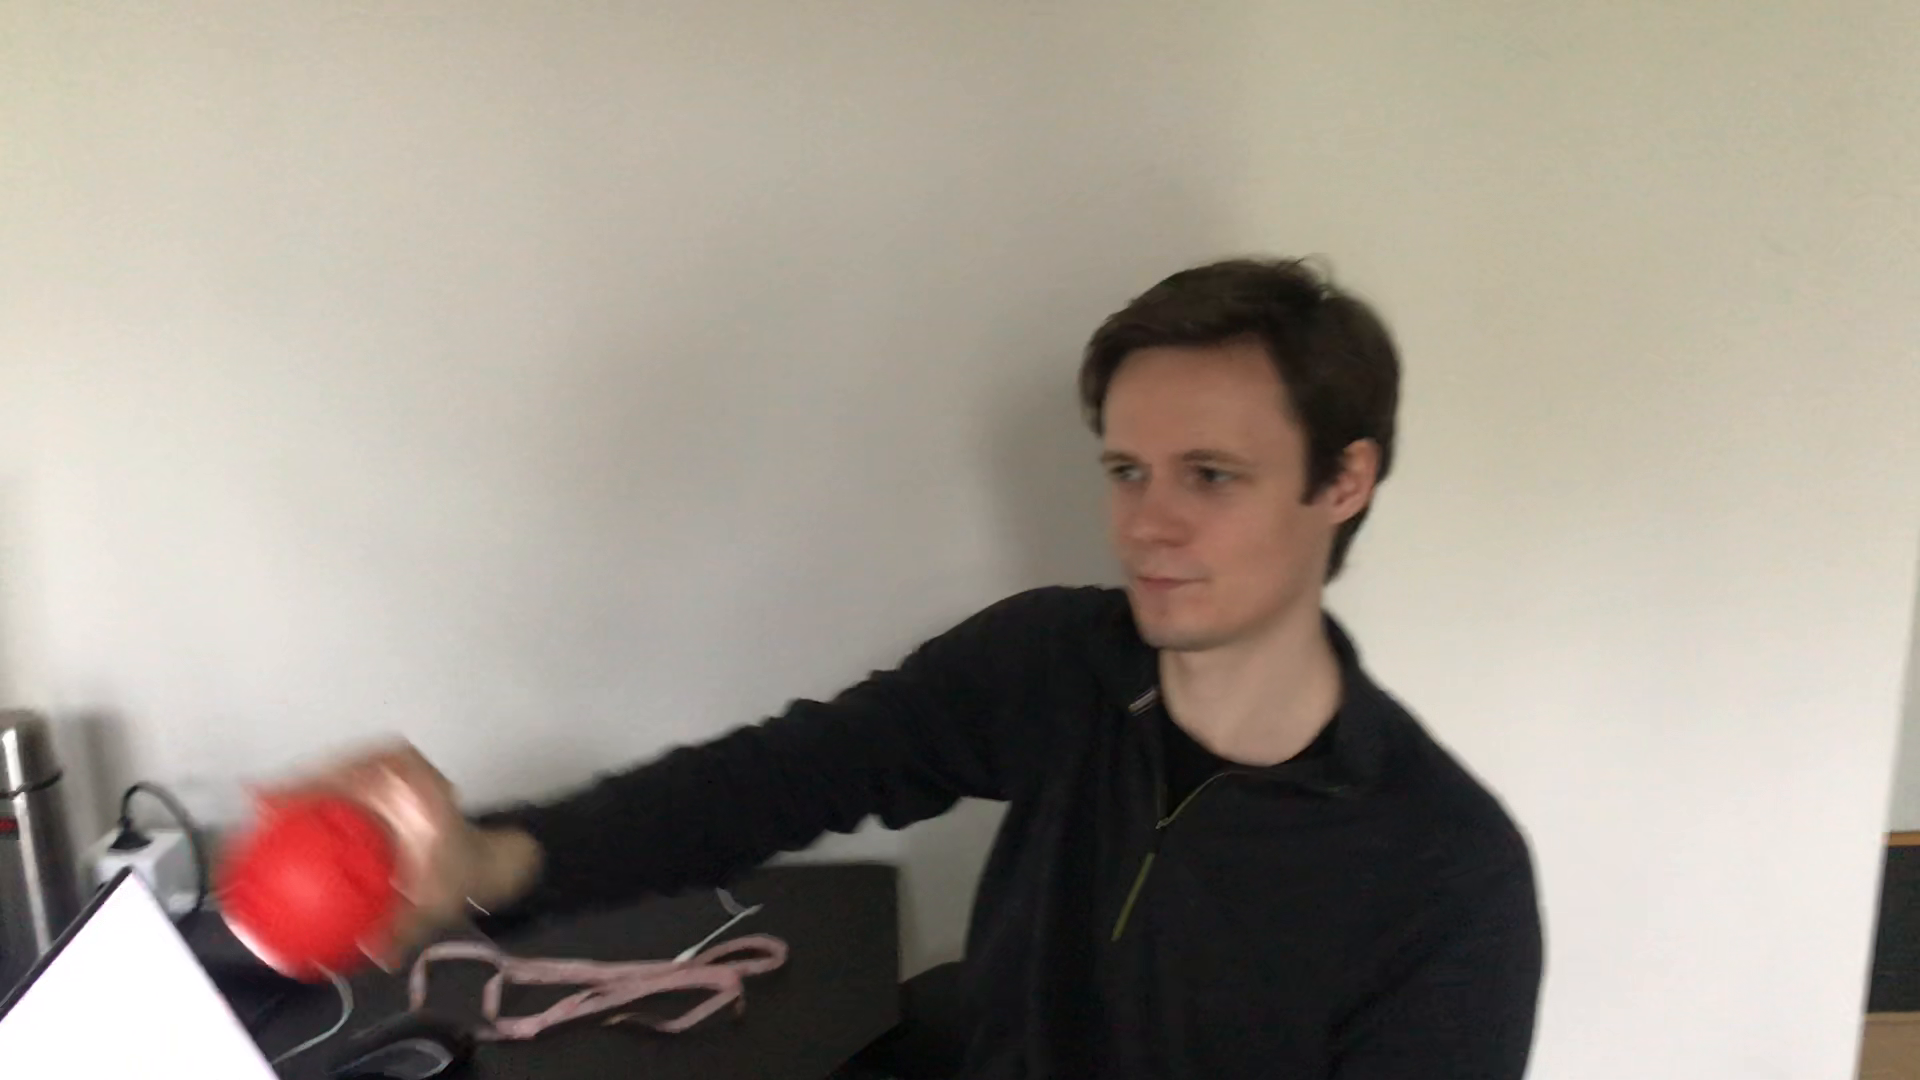Ball: (220, 794, 407, 976)
